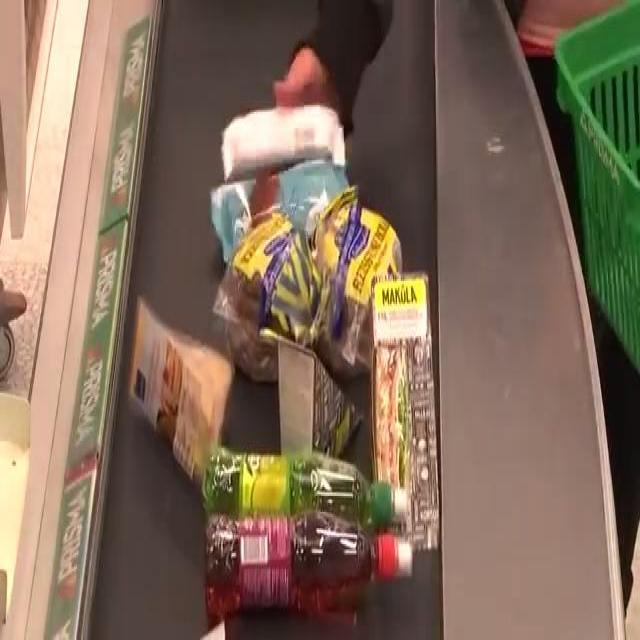beverage: (208, 511, 412, 614), (205, 452, 411, 520)
food-box: (224, 209, 408, 378), (131, 301, 233, 487)
utility-box: (368, 268, 442, 546), (210, 156, 356, 274), (218, 110, 352, 172)
